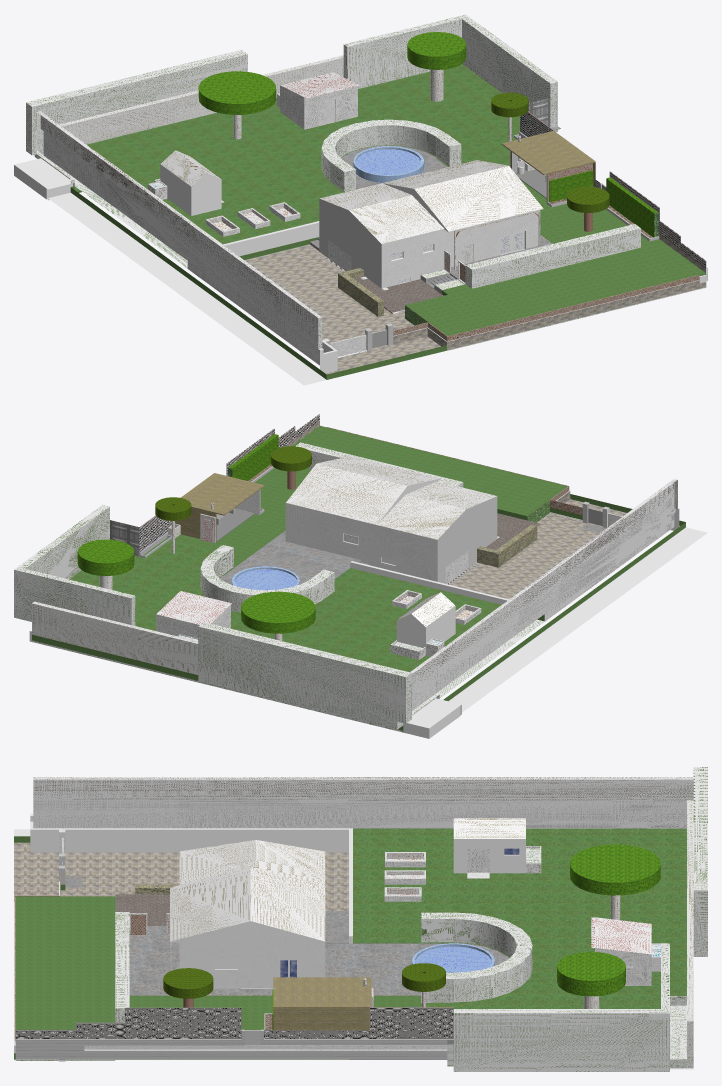
Rendered from the_house_that_jack_built.glb.
3 views of the same model, one above another, from view 1: azimuth 30°, elevation 25°; view 2: azimuth 150°, elevation 25°; view 3: azimuth 270°, elevation 25° (orthographic). The views are drawn at different scales.
Parts seen in each view (by area): view 1: Ground, Ground.003, SketchUp.744, SketchUp.873, SketchUp.727, Ground.005, SketchUp.752, SketchUp.751, SketchUp.693, SketchUp.728, SketchUp.870, SketchUp.736 (+26 smaller); view 2: Ground, SketchUp.751, Ground.003, SketchUp.727, SketchUp.873, SketchUp.744, SketchUp.752, SketchUp.693, SketchUp.870, Ground.005, SketchUp.728, SketchUp.699 (+25 smaller); view 3: Ground, SketchUp.873, Ground.003, SketchUp.728, SketchUp.744, SketchUp.693, Ground.005, SketchUp.687, Ground.004, SketchUp.702, SketchUp.736, Grass (+24 smaller).
Part boxes in pixels (left/top/right/bottom): Ground: left=86, top=64, right=519, bottom=244; Ground.003: left=405, top=158, right=705, bottom=335; SketchUp.744: left=343, top=14, right=557, bottom=132; SketchUp.873: left=43, top=131, right=319, bottom=365; SketchUp.727: left=319, top=198, right=538, bottom=288; Ground.005: left=245, top=244, right=537, bottom=374; SketchUp.752: left=14, top=158, right=326, bottom=385; SketchUp.751: left=26, top=49, right=247, bottom=183; SketchUp.693: left=382, top=160, right=543, bottom=231; SketchUp.728: left=37, top=111, right=321, bottom=331; SketchUp.870: left=59, top=55, right=343, bottom=144; SketchUp.736: left=321, top=119, right=461, bottom=191; Ground: left=69, top=538, right=544, bottom=672; SketchUp.751: left=198, top=622, right=439, bottom=729; Ground.003: left=143, top=425, right=582, bottom=575; SketchUp.727: left=285, top=496, right=497, bottom=583; SketchUp.873: left=412, top=496, right=674, bottom=710; SketchUp.744: left=14, top=505, right=135, bottom=625; SketchUp.752: left=403, top=527, right=707, bottom=738; SketchUp.693: left=286, top=456, right=440, bottom=524; SketchUp.870: left=32, top=601, right=198, bottom=674; Ground.005: left=449, top=499, right=679, bottom=599; SketchUp.728: left=410, top=479, right=677, bottom=687; SketchUp.699: left=377, top=481, right=496, bottom=539; Ground: left=353, top=828, right=686, bottom=1008; SketchUp.873: left=33, top=800, right=686, bottom=828; Ground.003: left=15, top=884, right=431, bottom=1029; SketchUp.728: left=33, top=777, right=693, bottom=800; SketchUp.744: left=447, top=943, right=686, bottom=1071; SketchUp.693: left=170, top=867, right=325, bottom=941; Ground.005: left=14, top=842, right=348, bottom=988; SketchUp.687: left=14, top=813, right=352, bottom=1061; Ground.004: left=129, top=926, right=509, bottom=995; SketchUp.702: left=170, top=921, right=325, bottom=988; SketchUp.736: left=421, top=912, right=532, bottom=1002; Grass: left=273, top=977, right=371, bottom=1030.
Bounding box in the file's own units: 37.23 × 5.92 × 43.21.
53 materials, 34 textured.
